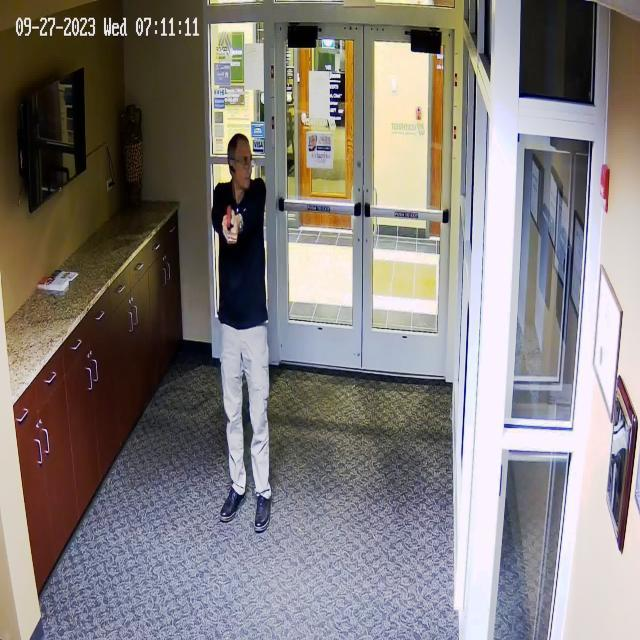Gun: (215, 198, 251, 246)
